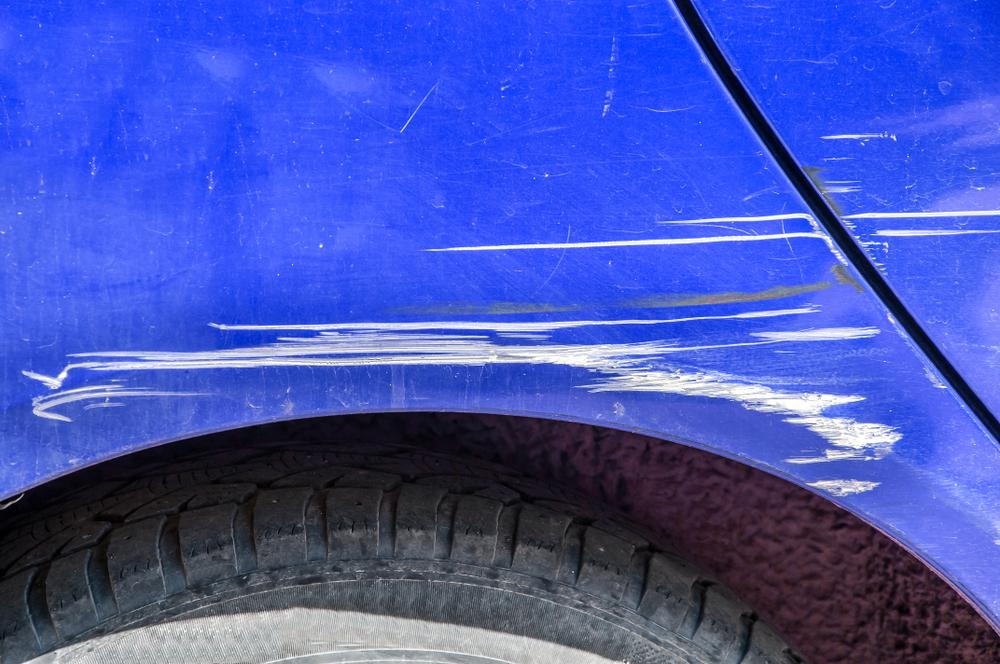scratch: (24, 214, 910, 497), (806, 131, 1000, 278)
